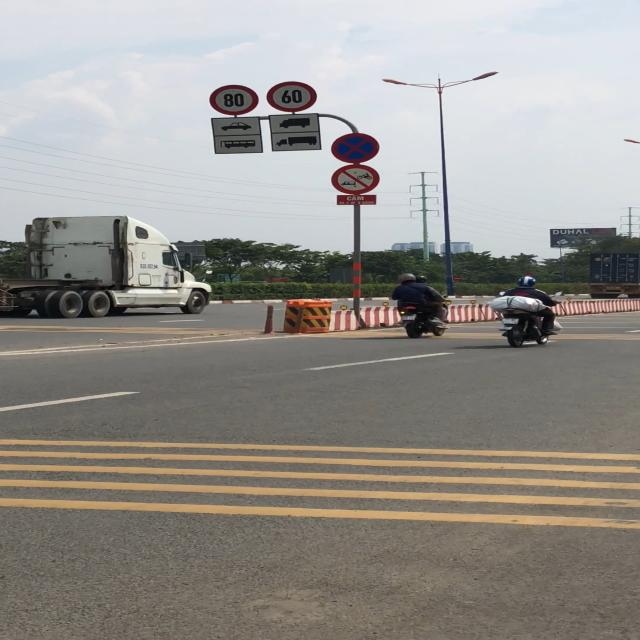Bien bao cam dung xe va do xe: (328, 132, 383, 166)
Bien bao toc do toi da cho phep: (265, 82, 321, 114), (210, 84, 260, 117)
